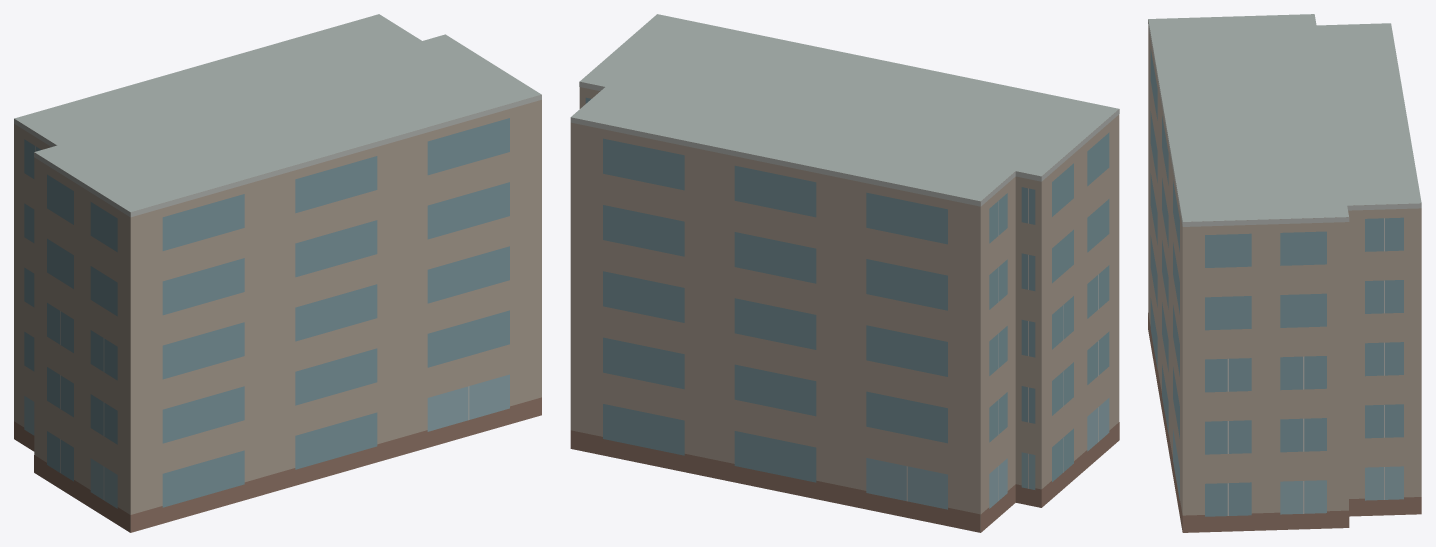
Rendered from survey-upis-32725695.glb.
The picture shows the model from 3 angles, left to right: view 1: azimuth 30°, elevation 25°; view 2: azimuth 150°, elevation 25°; view 3: azimuth 270°, elevation 25°; orthographic projection. The views are drawn at different scales.
Visible parts, largest first — view 1: survey-upis-32725695.tmp; view 2: survey-upis-32725695.tmp; view 3: survey-upis-32725695.tmp.
Part boxes in pixels (box(x1,y1,x2,y2)): survey-upis-32725695.tmp: box(14, 14, 541, 532); survey-upis-32725695.tmp: box(570, 14, 1119, 532); survey-upis-32725695.tmp: box(1148, 14, 1421, 532).
Size of the model in its own units: 21.83 by 15.2 by 12.13.
